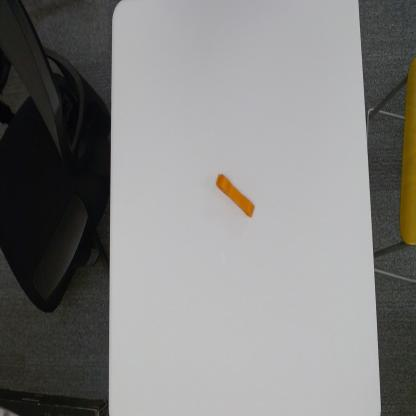Screwdriver: (215, 171, 255, 219)
